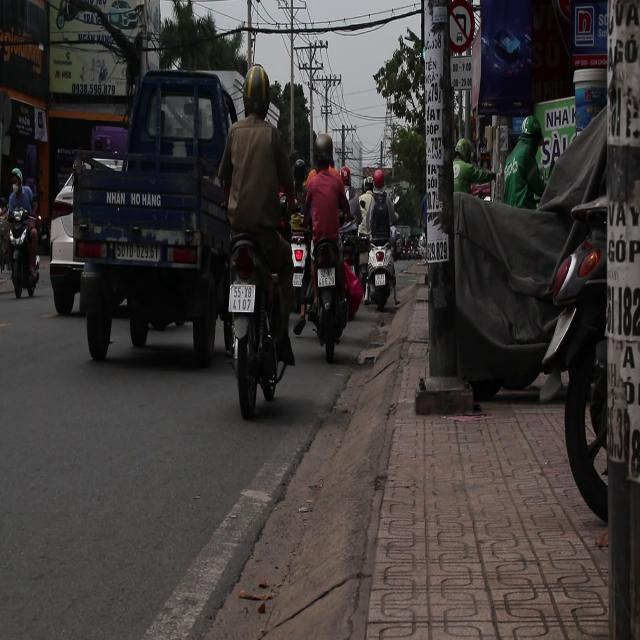motorbike: (211, 243, 298, 416), (279, 206, 324, 354), (314, 230, 348, 378), (1, 198, 46, 306), (373, 224, 398, 330)
truck: (62, 65, 246, 363)
